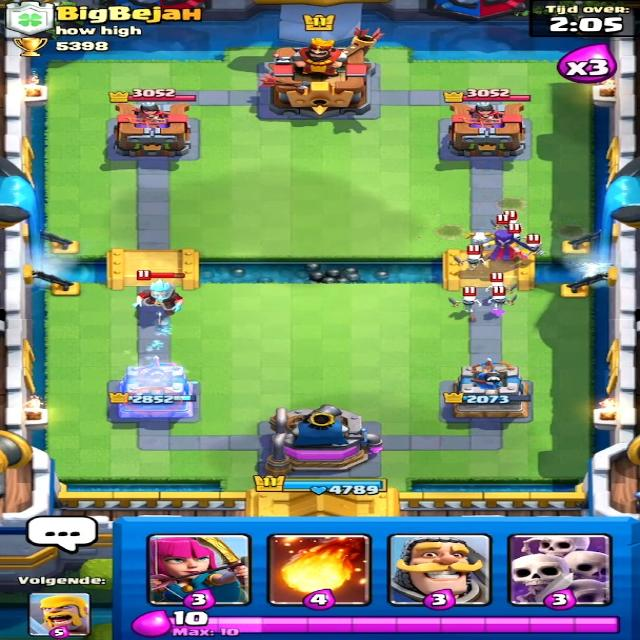Enemy_Ice_Wizard_Troop: (128, 279, 186, 315)
Enemy_Skeleton_Troop: (480, 293, 518, 315), (522, 232, 555, 256), (462, 247, 486, 277), (455, 291, 486, 314)
Enemy_Witch_Troop: (470, 228, 532, 268)
Fireball_Card: (270, 534, 367, 605)
